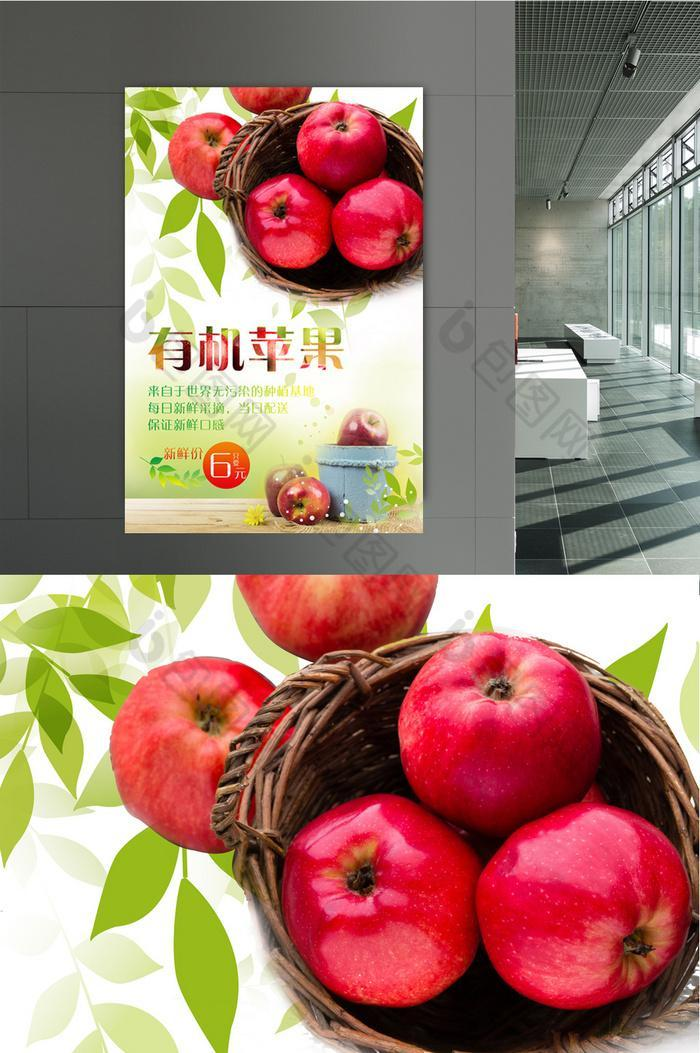apple: (280, 793, 483, 1012), (488, 788, 697, 1000), (392, 628, 608, 828), (107, 655, 275, 856), (242, 173, 333, 270), (294, 101, 389, 192), (331, 178, 420, 269), (168, 112, 243, 195), (275, 473, 330, 524)
